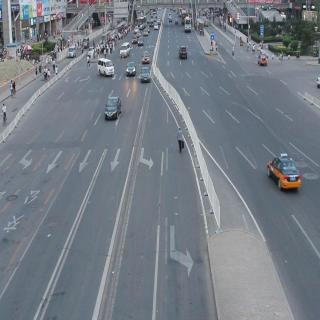BigCar: (179, 14, 196, 35)
Car: (264, 146, 307, 209), (92, 53, 119, 84), (106, 87, 122, 131), (175, 37, 190, 65), (256, 53, 274, 72), (119, 37, 131, 59), (140, 64, 150, 90), (125, 58, 136, 80), (141, 44, 150, 69), (136, 32, 145, 48)
